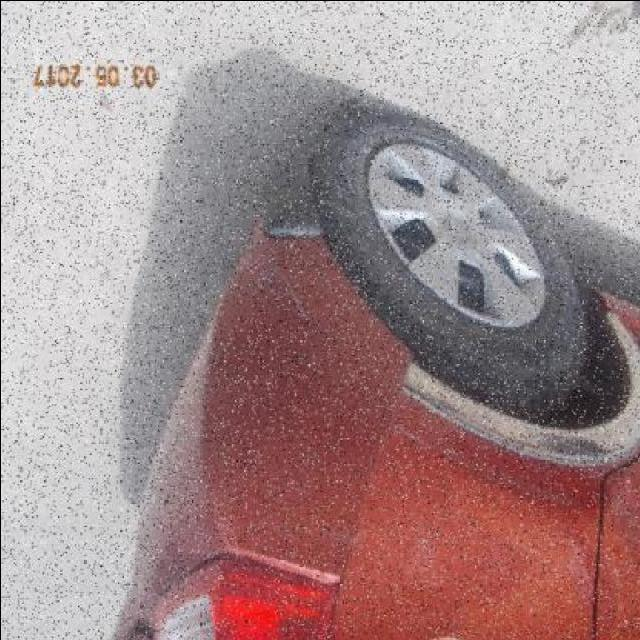rear-bumper-dent: (167, 126, 423, 549)
